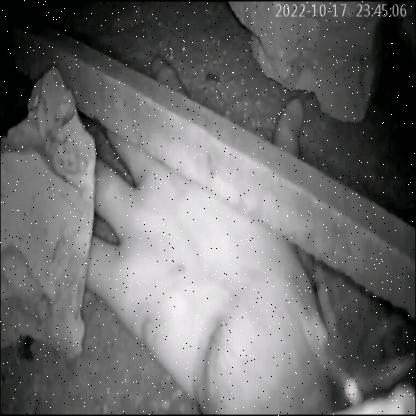hand: (30, 50, 364, 404)
